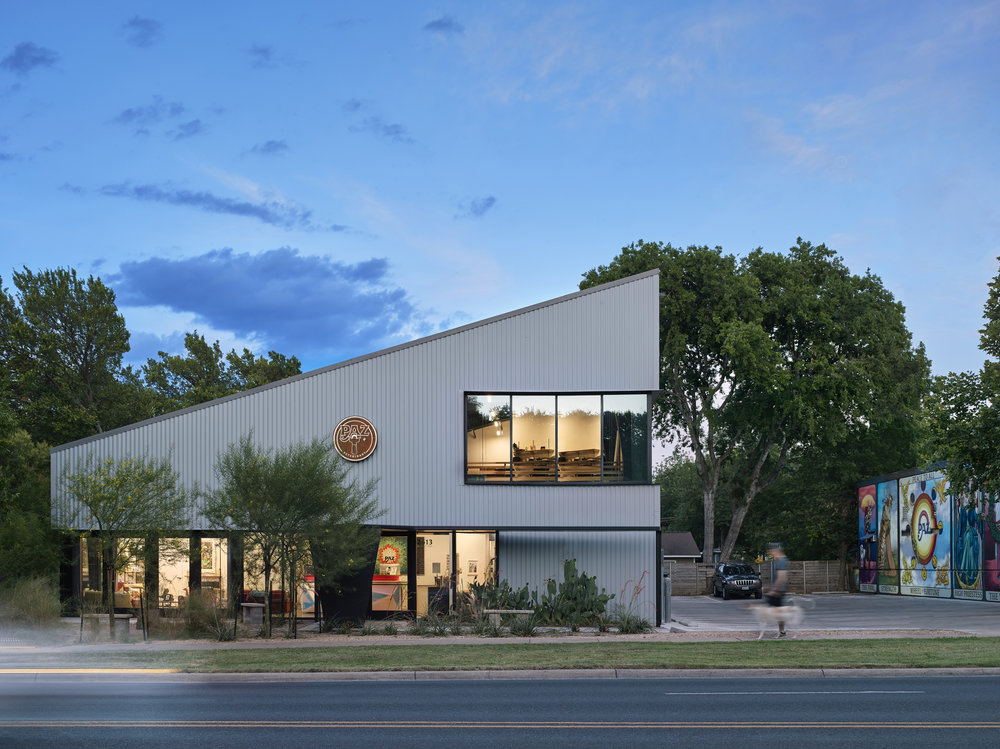Building House: (43, 235, 677, 631)
